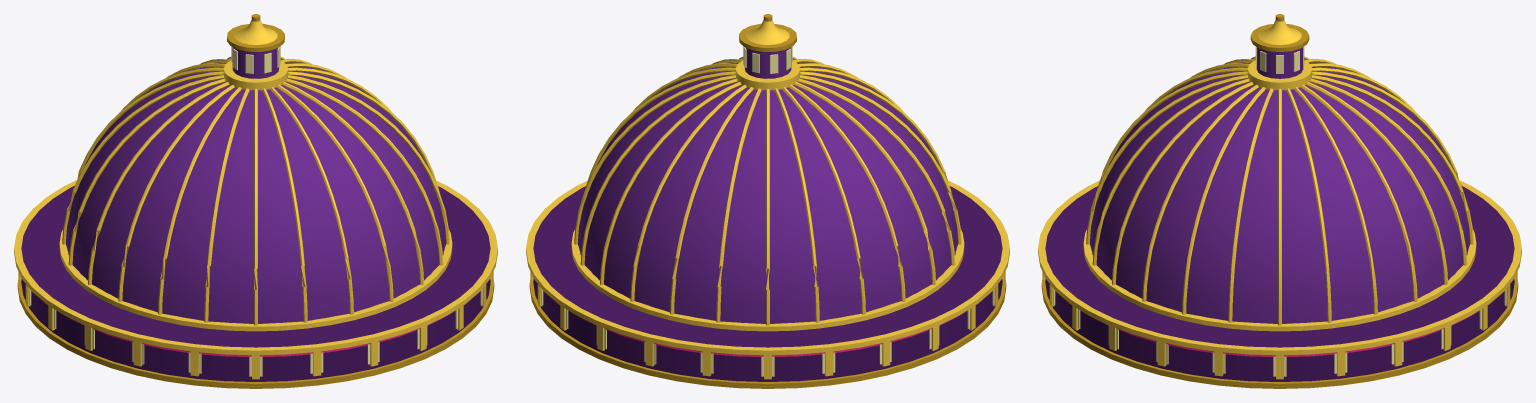
File: hall.glb
3 views of the same model, side by side, from view 1: azimuth 30°, elevation 25°; view 2: azimuth 150°, elevation 25°; view 3: azimuth 270°, elevation 25° (orthographic).
Visible parts, largest first — view 1: facade_crown_plum2, facade_crown_gold, facade_crown_plum, facade_crown_brass, facade_crown_lamp, facade_crown_pink; view 2: facade_crown_plum2, facade_crown_gold, facade_crown_plum, facade_crown_brass, facade_crown_lamp, facade_crown_pink; view 3: facade_crown_plum2, facade_crown_gold, facade_crown_plum, facade_crown_brass, facade_crown_lamp, facade_crown_pink.
Part boxes in pixels (left/top/right/bottom): facade_crown_plum2: left=66, top=47, right=445, bottom=323; facade_crown_gold: left=14, top=20, right=497, bottom=379; facade_crown_plum: left=21, top=186, right=490, bottom=381; facade_crown_brass: left=17, top=14, right=494, bottom=388; facade_crown_lamp: left=20, top=46, right=491, bottom=376; facade_crown_pink: left=65, top=316, right=446, bottom=356; facade_crown_plum2: left=578, top=47, right=957, bottom=323; facade_crown_gold: left=526, top=20, right=1009, bottom=379; facade_crown_plum: left=533, top=186, right=1002, bottom=381; facade_crown_brass: left=529, top=14, right=1006, bottom=388; facade_crown_lamp: left=532, top=46, right=1003, bottom=376; facade_crown_pink: left=577, top=316, right=958, bottom=356; facade_crown_plum2: left=1090, top=47, right=1469, bottom=323; facade_crown_gold: left=1038, top=20, right=1521, bottom=379; facade_crown_plum: left=1045, top=186, right=1514, bottom=381; facade_crown_brass: left=1041, top=14, right=1518, bottom=388; facade_crown_lamp: left=1044, top=46, right=1515, bottom=376; facade_crown_pink: left=1089, top=316, right=1470, bottom=356.
Bounding box in the file's own units: 33 × 20.74 × 33.
